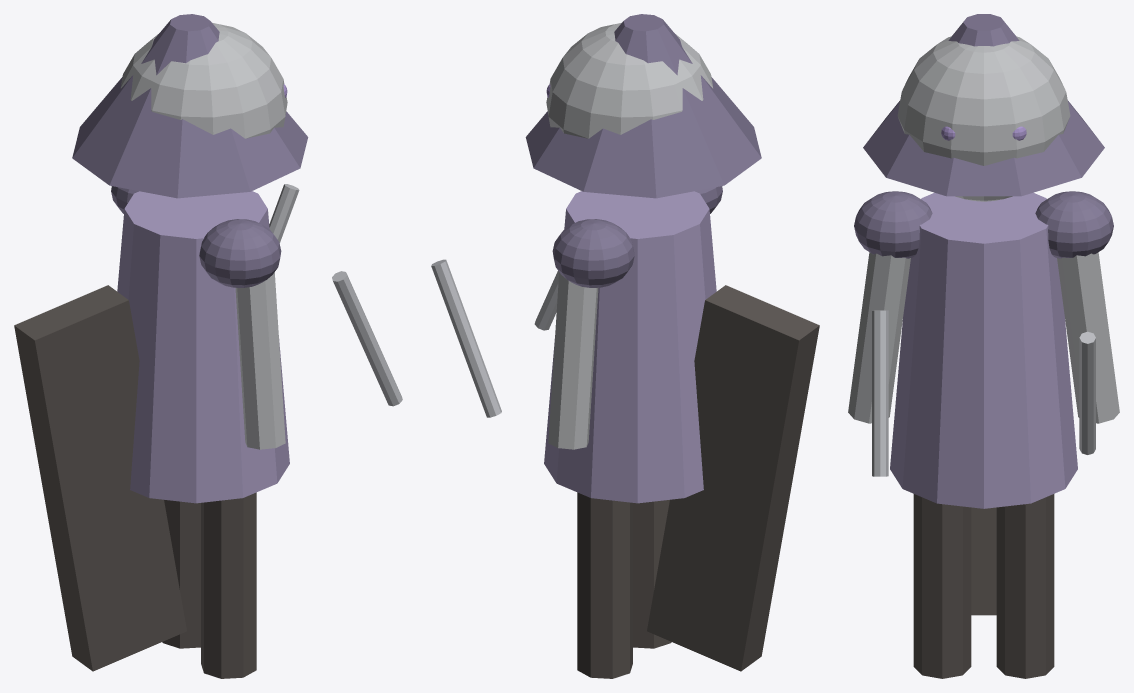
Rendered from hero_vhorren_0.glb.
The picture shows the model from 3 angles, left to right: view 1: azimuth 30°, elevation 25°; view 2: azimuth 150°, elevation 25°; view 3: azimuth 270°, elevation 25°; orthographic projection.
Visible parts, largest first — view 1: figurka; view 2: figurka; view 3: figurka.
Part boxes in pixels (x1,y1,x2,y2): figurka: [14, 14, 402, 678]; figurka: [431, 14, 819, 678]; figurka: [848, 14, 1119, 678].
Size of the model in its own units: 0.5453 by 1.01 by 0.393.
